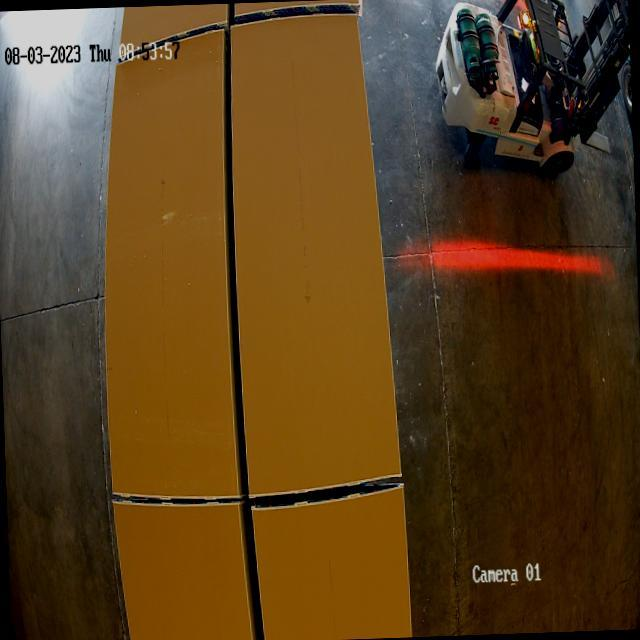forklift: (430, 0, 635, 191)
